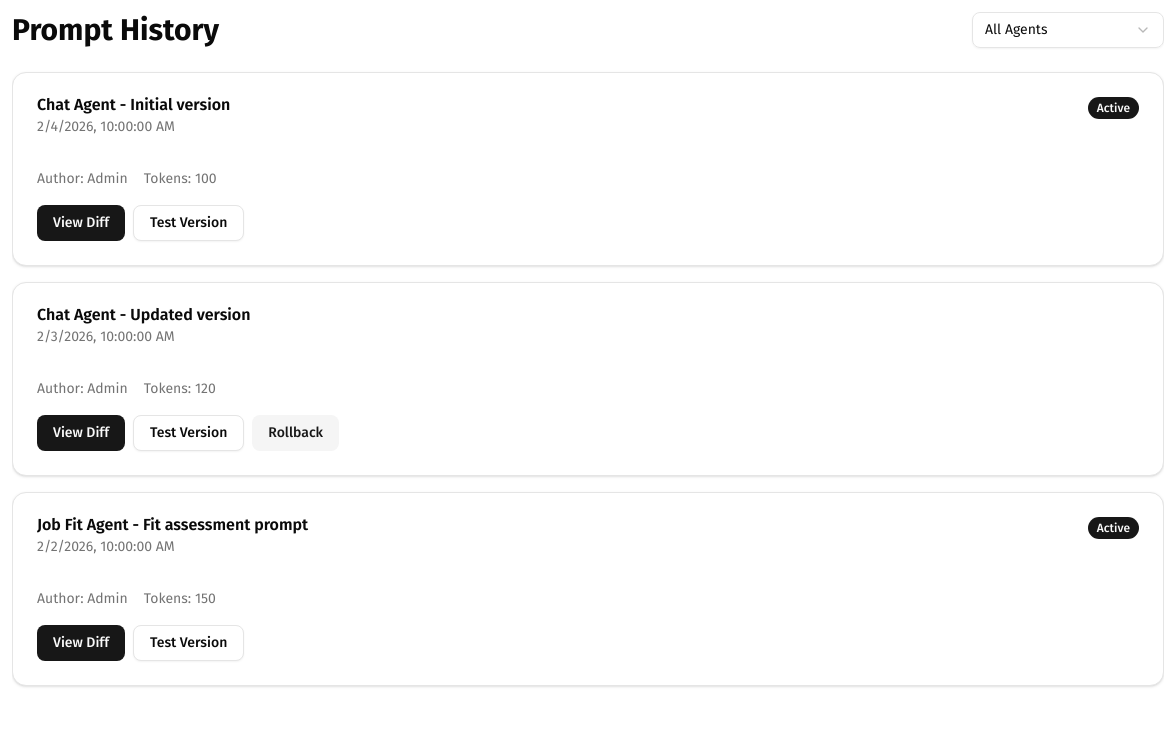
Scenario: PromptHistoryPage › Error Handling › should display error message when rollback fails
The image size is (1176, 732).
Expected: the text "Chat Agent - Updated version" is shown, [37,307,250,323]
Click the button "Rollback" at (296, 433), box [252,415,339,451]
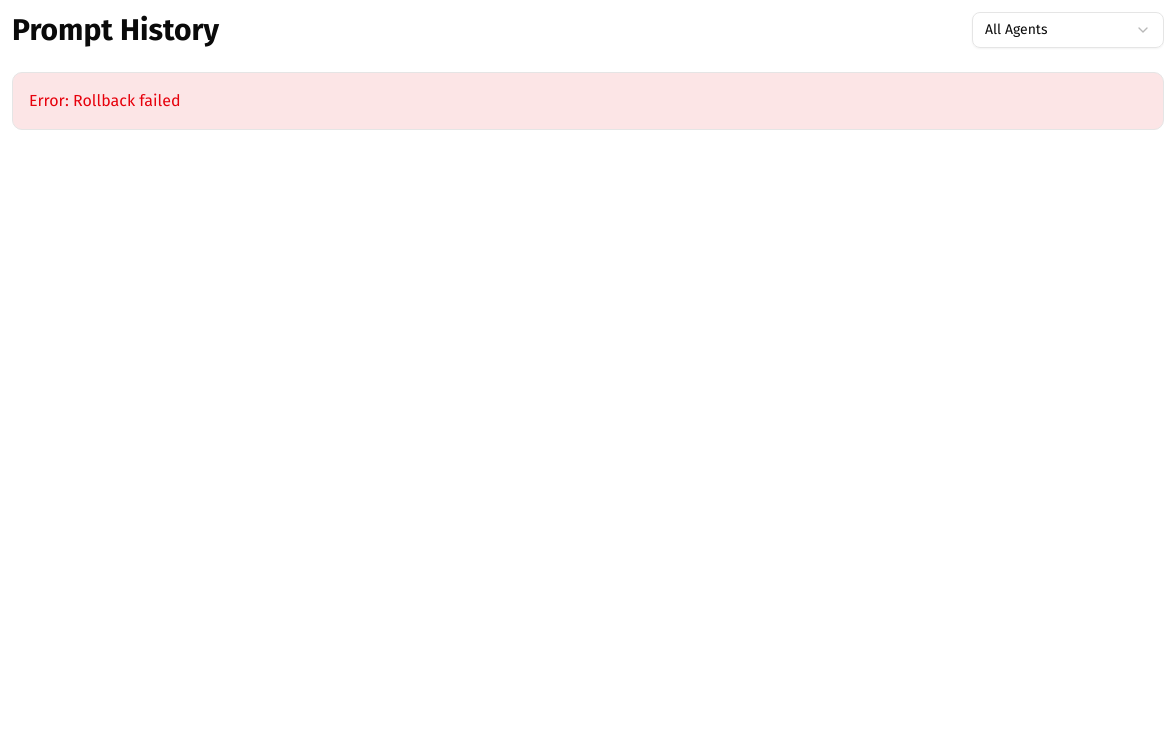
Result: the text "Error: Rollback failed" is shown at [12,72,1164,130]
